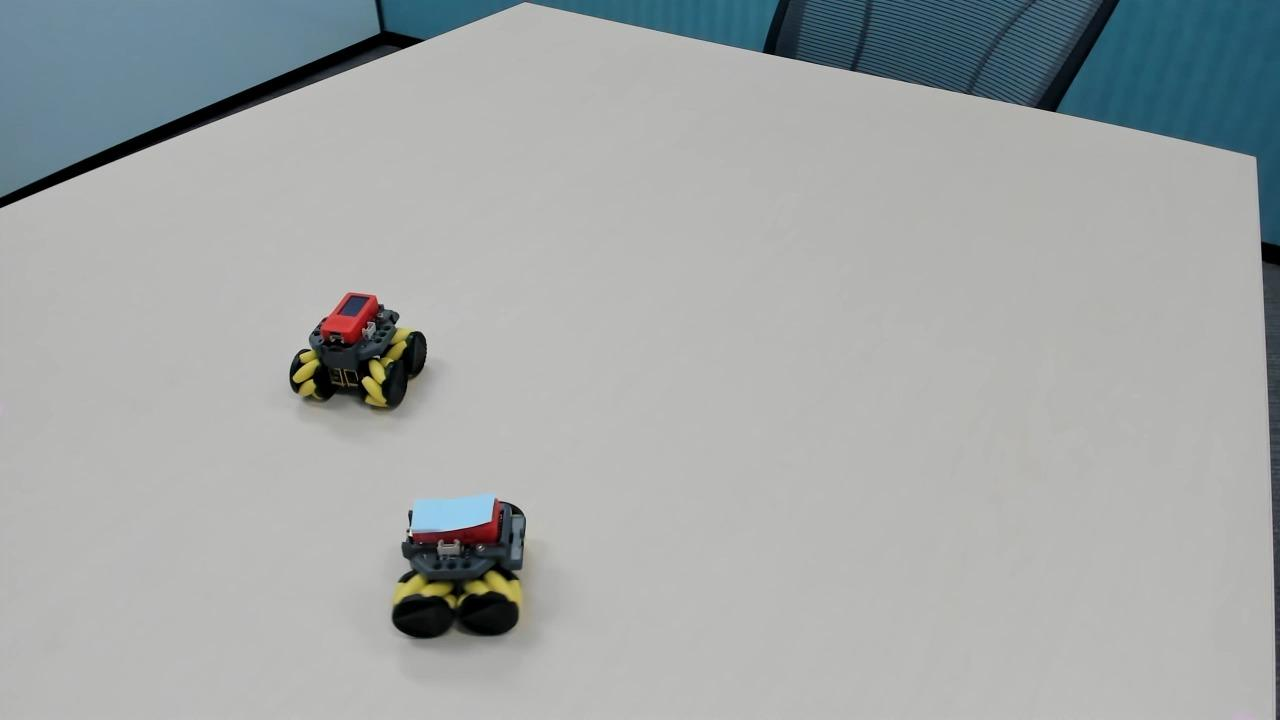B-Robot: (373, 485, 556, 660)
R-Robot: (276, 269, 444, 423)
